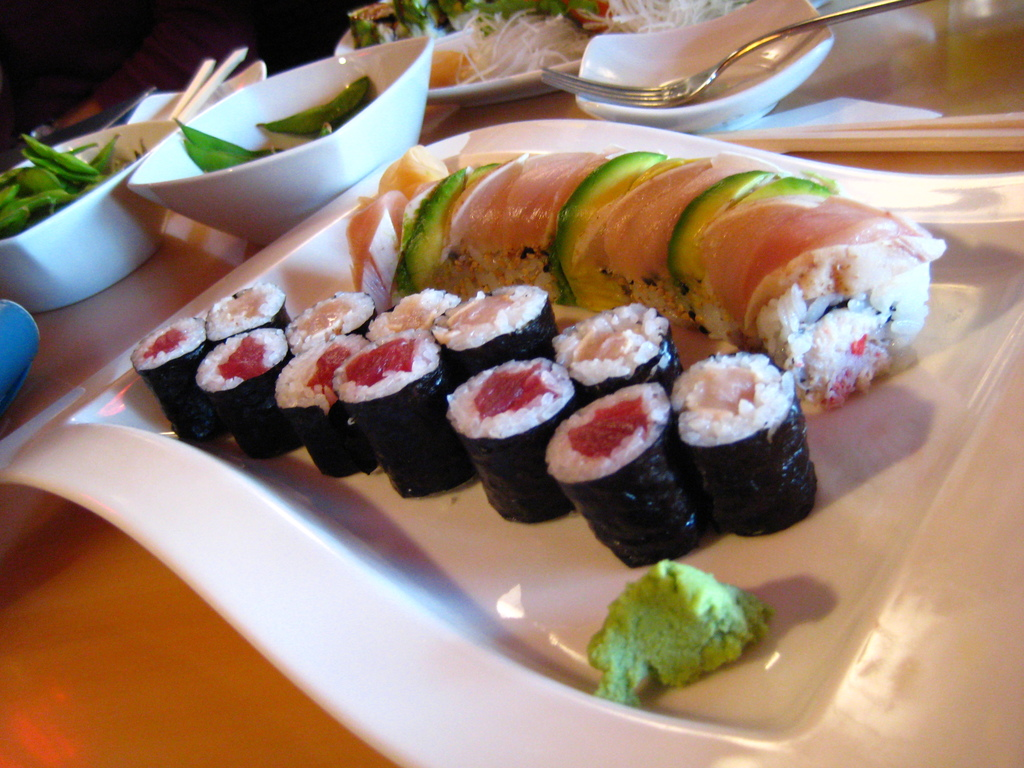sushi: (129, 282, 820, 568), (345, 151, 940, 401), (662, 355, 815, 538), (552, 388, 707, 568)
